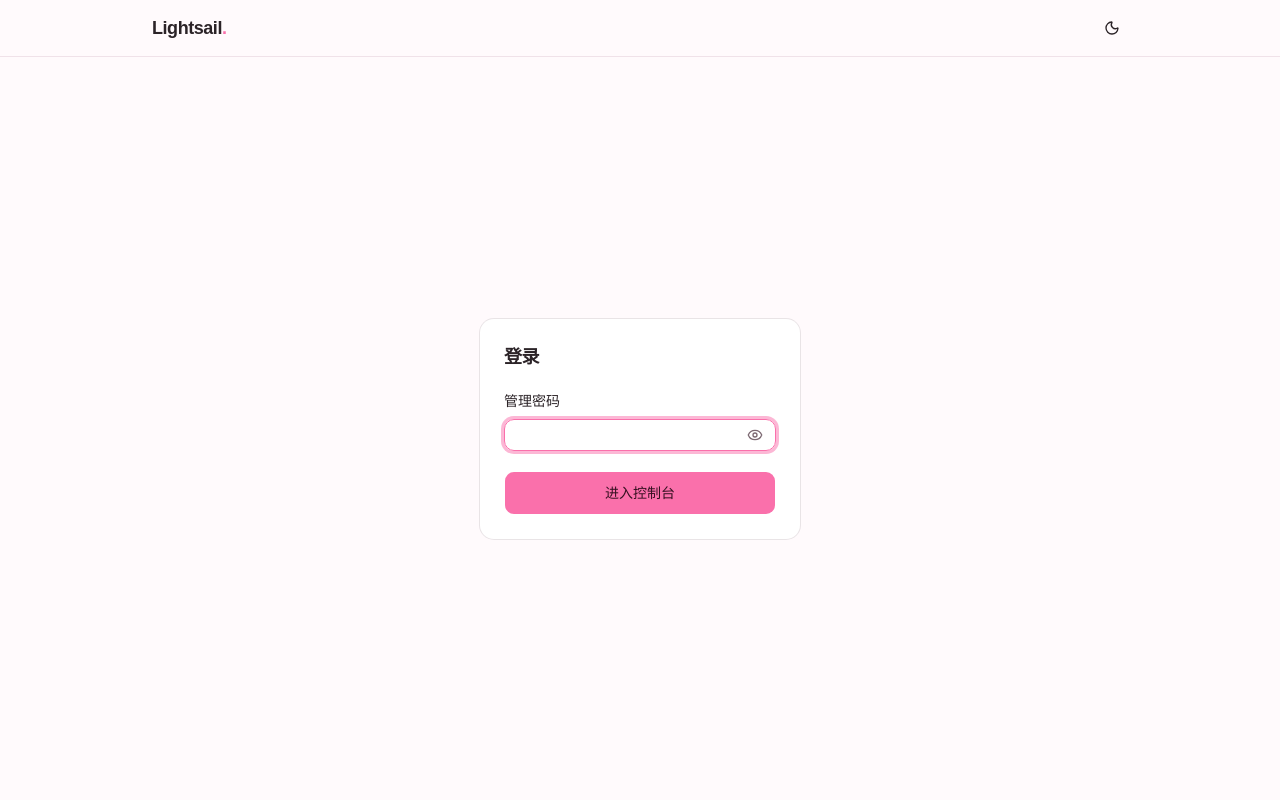
it: rebuilt shadcn console › rejects a short password before sending credentials
Type "short" into the password field labelled "管理密码" at coordinates (623, 434), box [505,418,741,450]
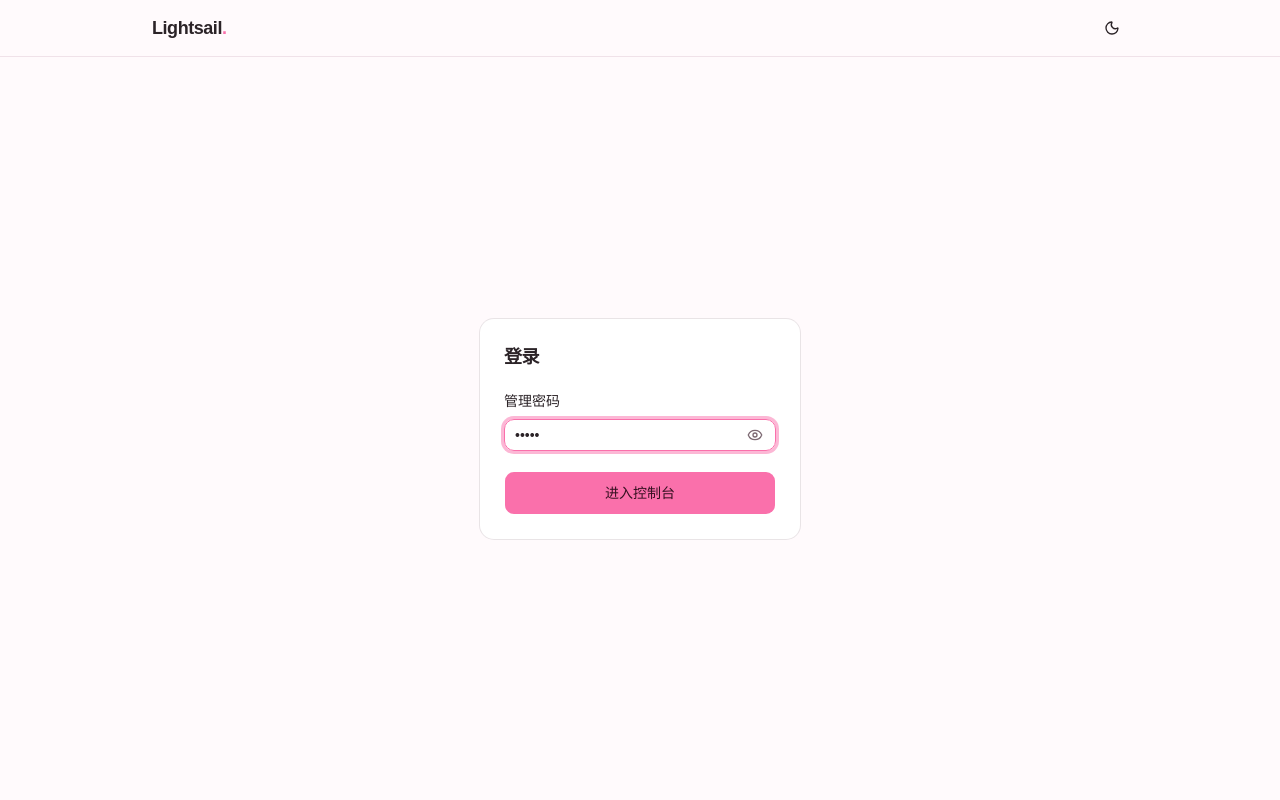
Click the button "进入控制台" at coordinates (640, 492), box [504,470,776,514]
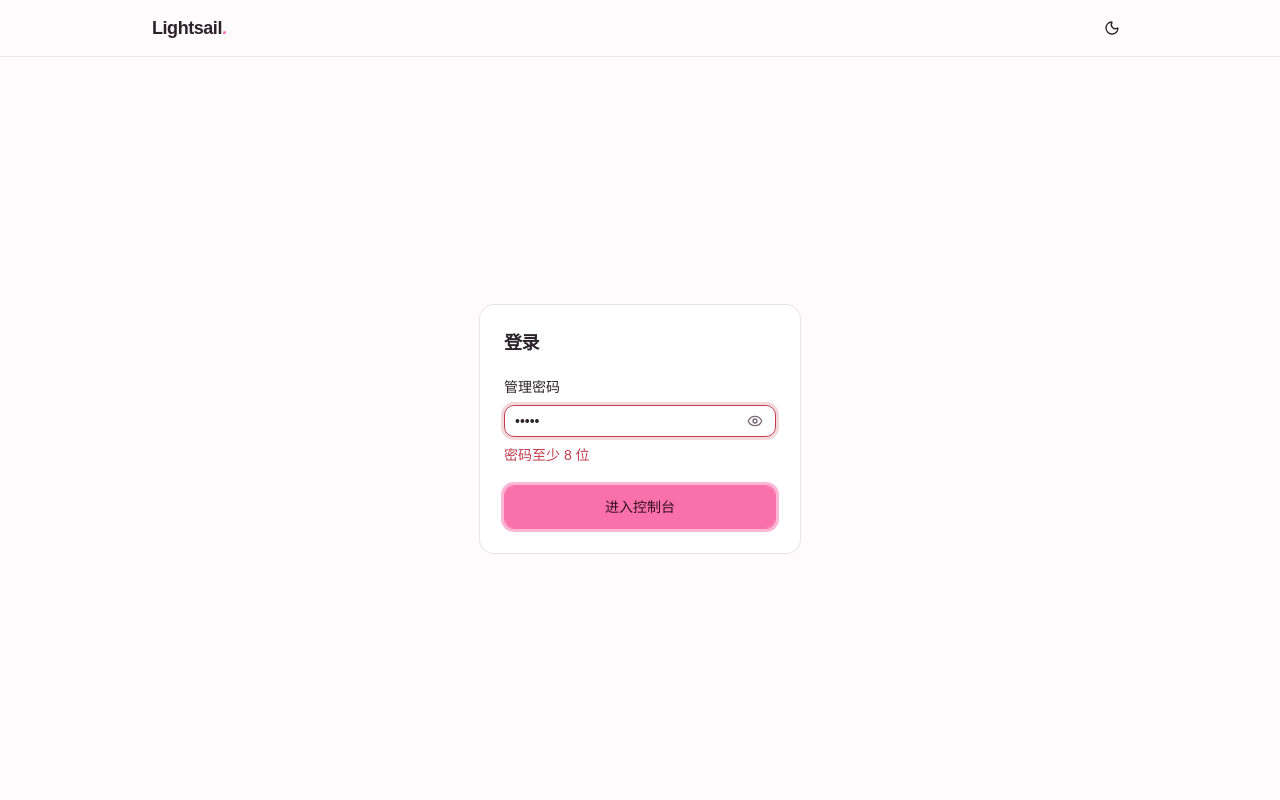
Now the text "密码至少 8 位" is shown, box [504,446,590,462]
